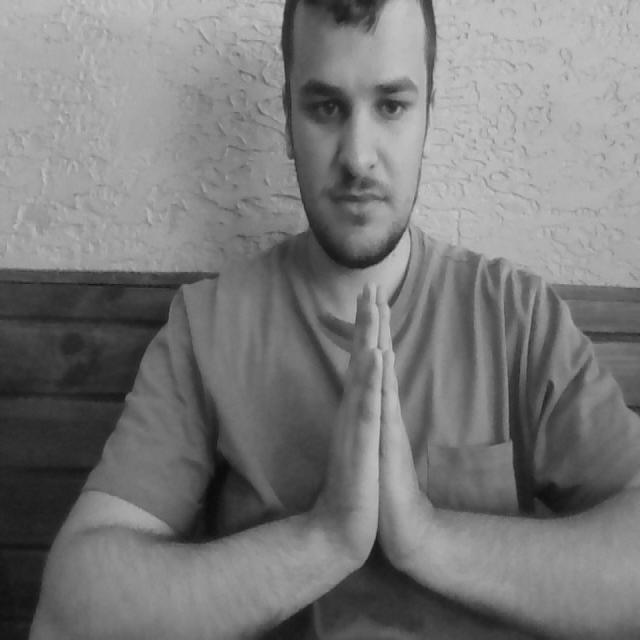Ozur-Dilemek: (325, 275, 429, 587)
